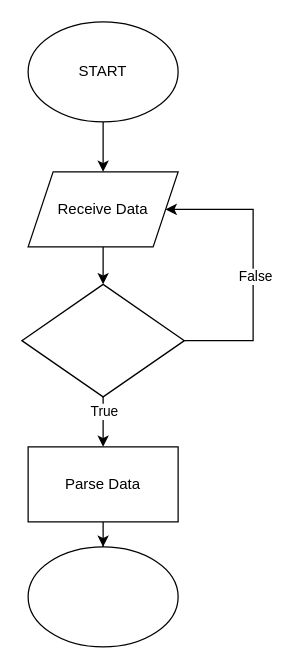
Some shapes in this 294 by 669 pixel diagram are drawn without their labels. The box of each missing label's shape, as (x1, y1, x2, y2) in pixels:
Completed Data: (21, 283, 184, 397)
END: (27, 546, 178, 647)
